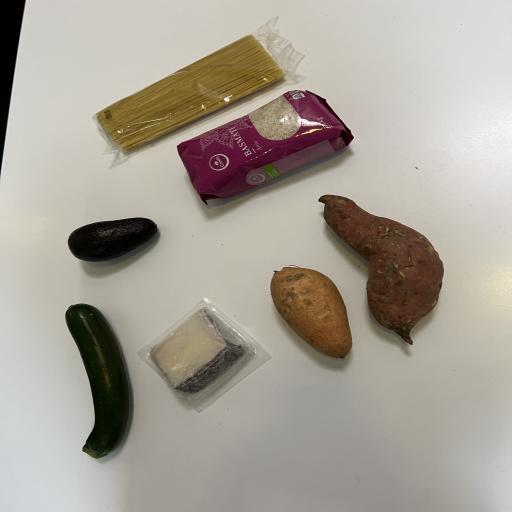avocado: (61, 212, 165, 266)
courgette: (60, 297, 140, 465)
cured_goat_cheese: (142, 301, 249, 399)
rice: (170, 88, 356, 204)
spaghetti: (90, 32, 297, 159)
sweet_potato: (318, 187, 456, 350), (262, 260, 360, 365)
